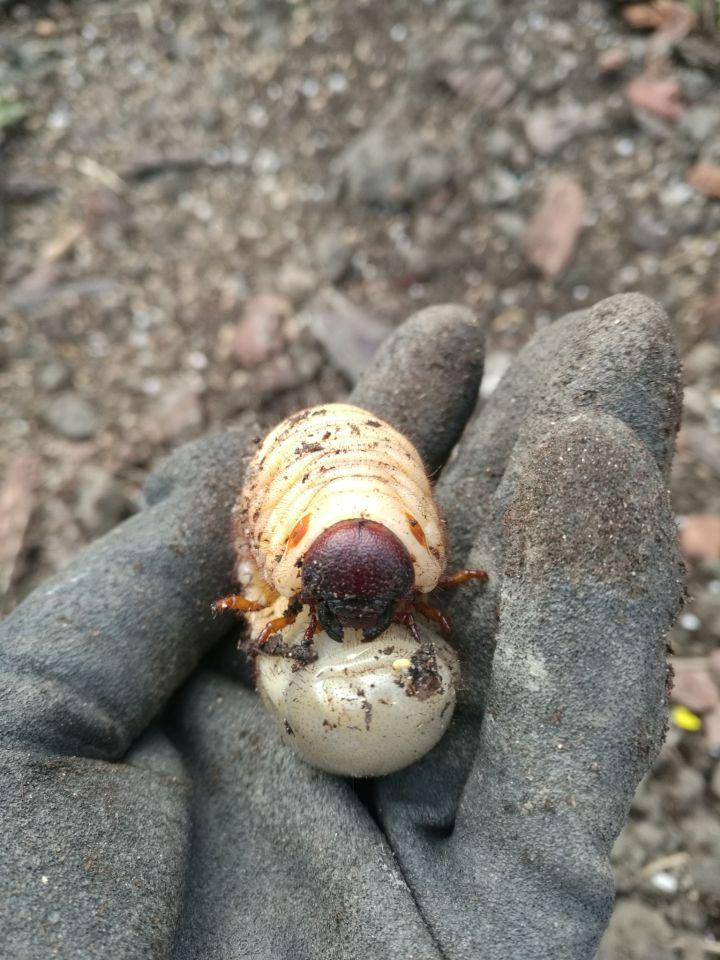grub: (234, 380, 483, 789)
